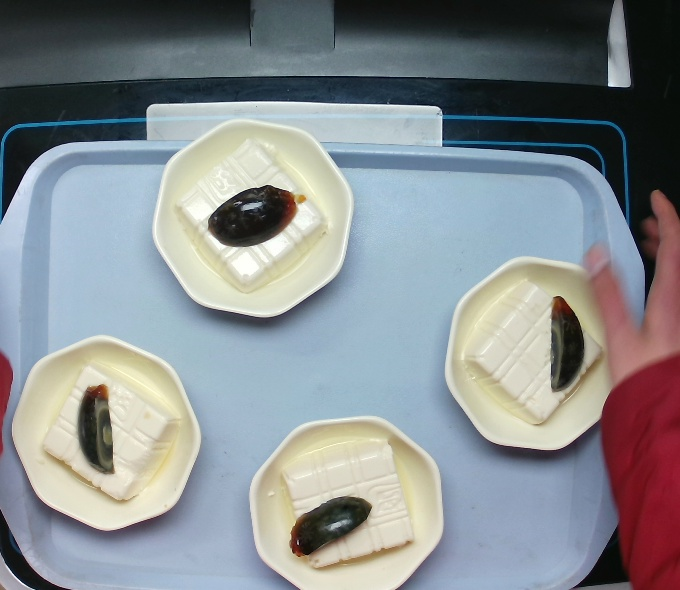wcq-PiDanDouFu: (174, 137, 334, 290), (37, 357, 185, 507), (466, 274, 605, 428), (271, 431, 420, 571)
